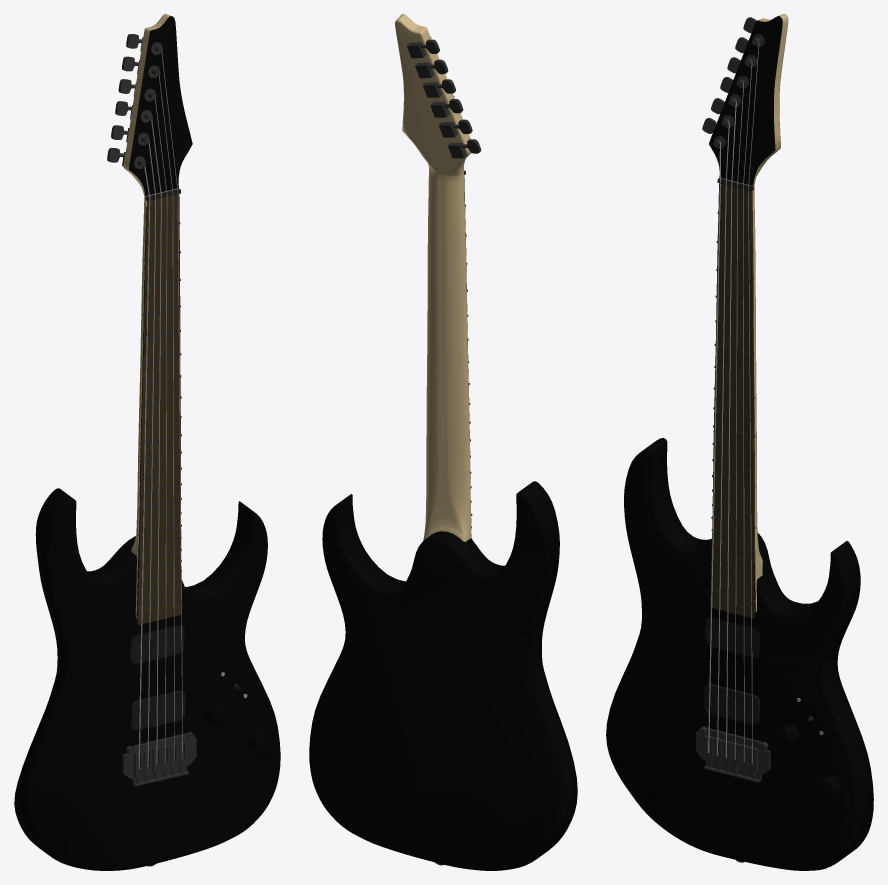
The picture shows the model from 3 angles, left to right: view 1: azimuth 30°, elevation 25°; view 2: azimuth 150°, elevation 25°; view 3: azimuth 330°, elevation 25°; orthographic projection.
Parts seen in each view (by area): view 1: body/hand, escala, metalics 2, metalics, plastic, metalics_02 - Default_0.001, braco1; view 2: body/hand, braco1, metalics; view 3: body/hand, escala, metalics 2, metalics, plastic, metalics_02 - Default_0.001, braco1.
Part boxes in pixels (x1,y1,x2,y2): body/hand: (14,16,280,870); escala: (137,194,181,624); metalics 2: (138,52,247,768); metalics: (107,34,182,618); plastic: (130,188,239,730); metalics_02 - Default_0.001: (122,732,196,866); braco1: (123,14,178,618); body/hand: (309,27,577,870); braco1: (395,14,471,541); metalics: (407,36,481,539); body/hand: (606,16,873,870); escala: (710,183,754,618); metalics 2: (708,42,823,763); metalics: (702,17,764,612); plastic: (704,178,813,724); metalics_02 - Default_0.001: (696,726,770,862); braco1: (711,14,788,611).
Bounding box in the file's own units: 0.4321 × 1.37 × 0.0934.
